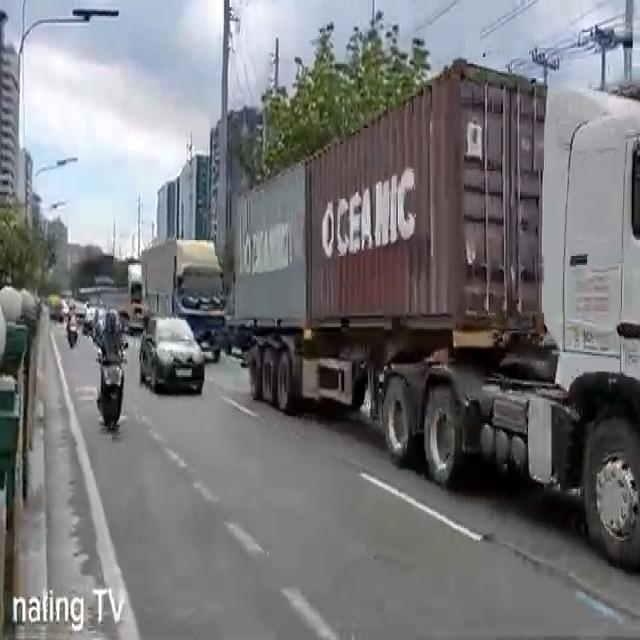car: (140, 312, 207, 397)
motorcycle: (95, 306, 126, 435), (66, 310, 78, 350)
truck: (228, 53, 640, 576), (143, 236, 225, 368)
